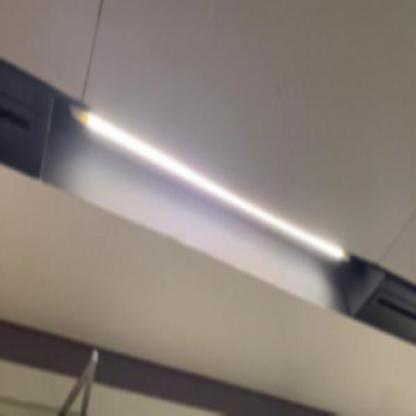light_on: (62, 100, 356, 272)
